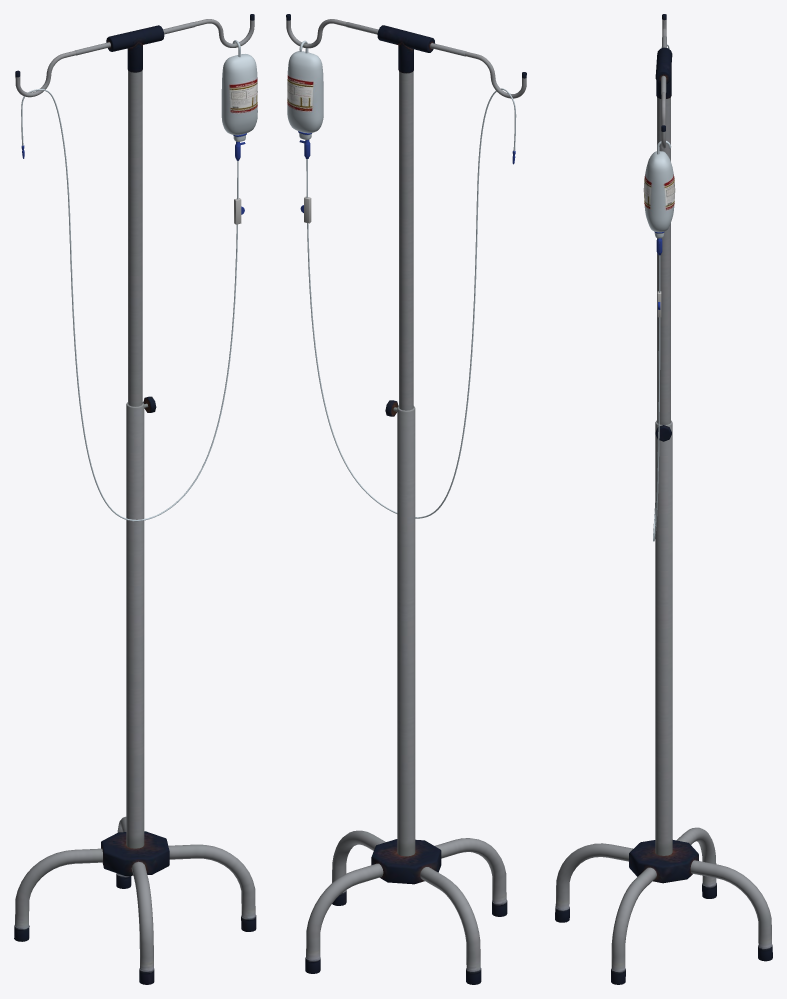
File: chemo-treatment.glb
3 views of the same model, side by side, from view 1: azimuth 30°, elevation 25°; view 2: azimuth 150°, elevation 25°; view 3: azimuth 270°, elevation 25° (orthographic). The views are drawn at different scales.
Visible parts, largest first — view 1: ChemotherapyTreatment; view 2: ChemotherapyTreatment; view 3: ChemotherapyTreatment.
Part boxes in pixels (x1,y1,x2,y2): ChemotherapyTreatment: (14, 14, 257, 984); ChemotherapyTreatment: (286, 14, 526, 984); ChemotherapyTreatment: (555, 14, 772, 984).
Size of the model in its own units: 0.102 by 0.3688 by 0.0828.
1 material, 1 textured.
